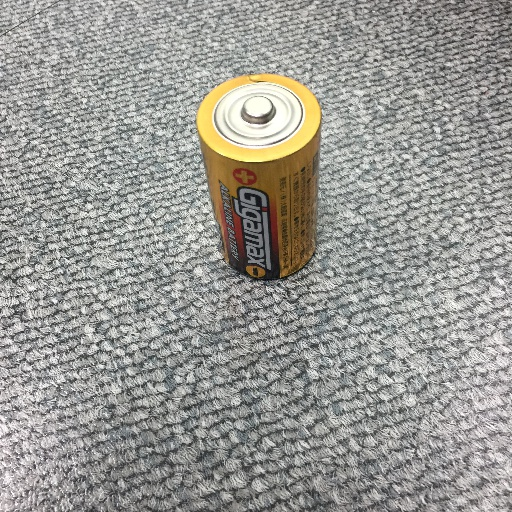Battery_0: (191, 51, 342, 299)
